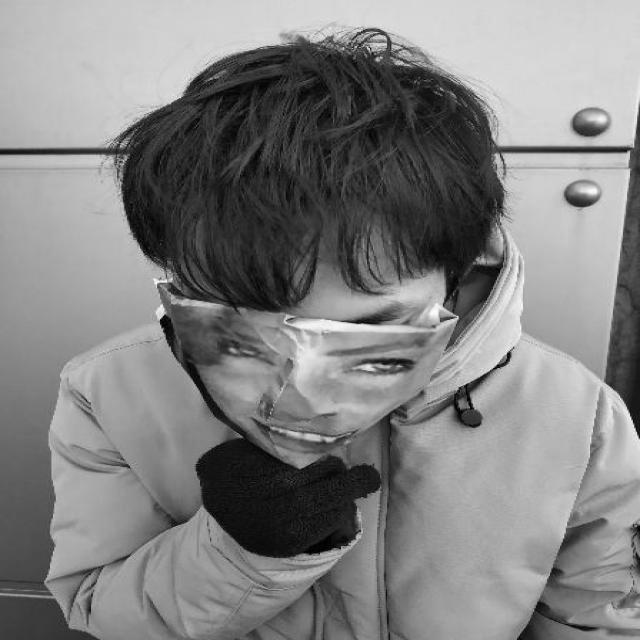fake: (166, 286, 452, 452)
